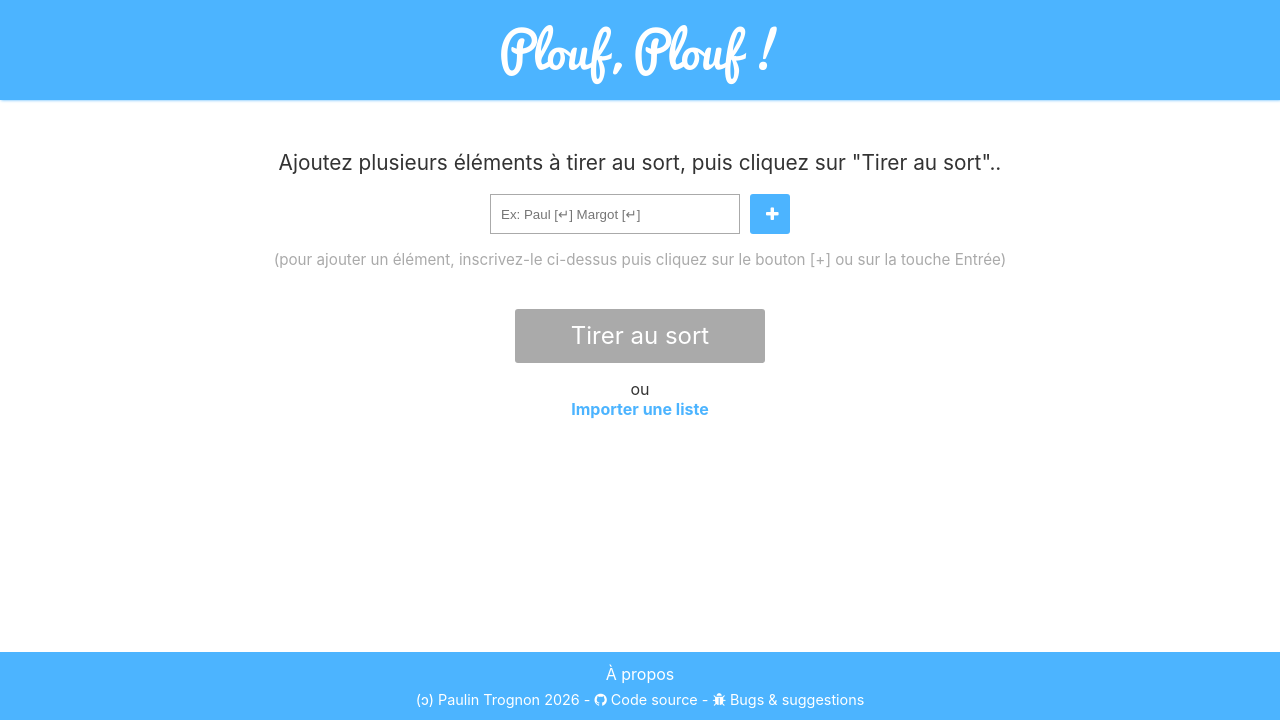
Test: Create draw › should add values to the draw
Type "Paulingo" into the field with test id "AddValueForm_textInput" at (615,214), box [490,194,740,234]
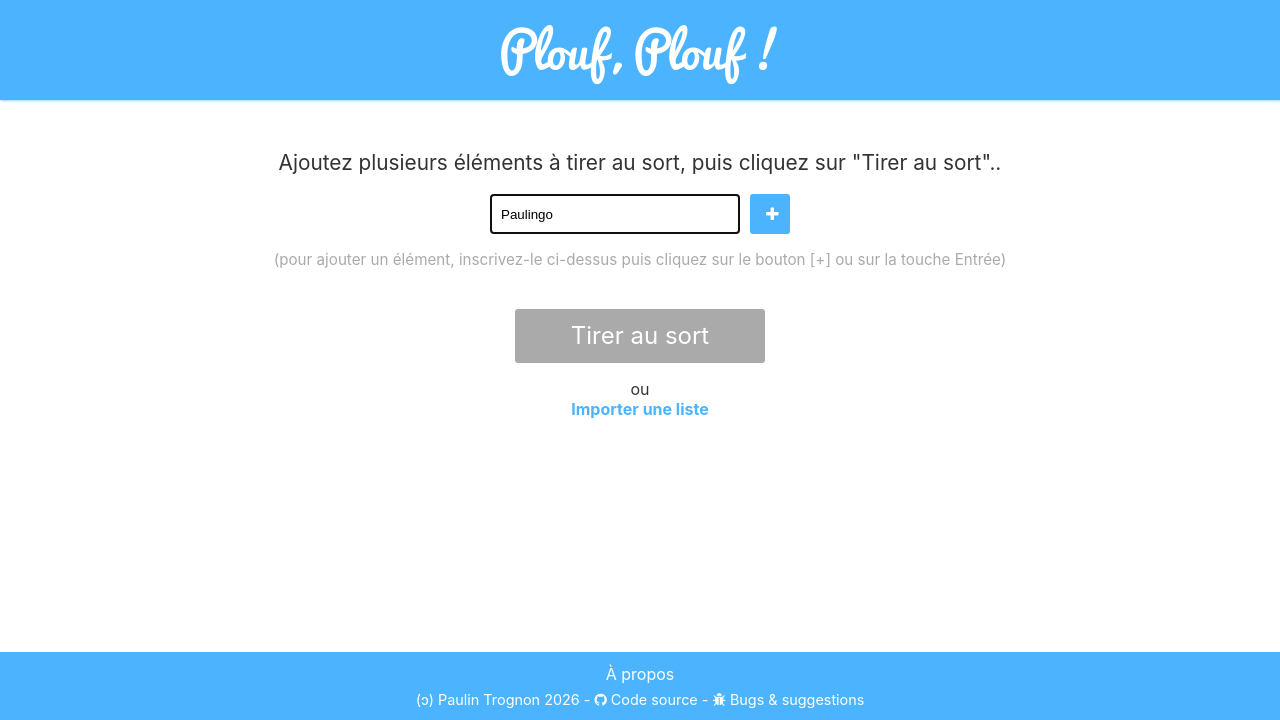
Click the button with test id "AddValueForm_addInput" at (770,214), box [750,194,790,234]
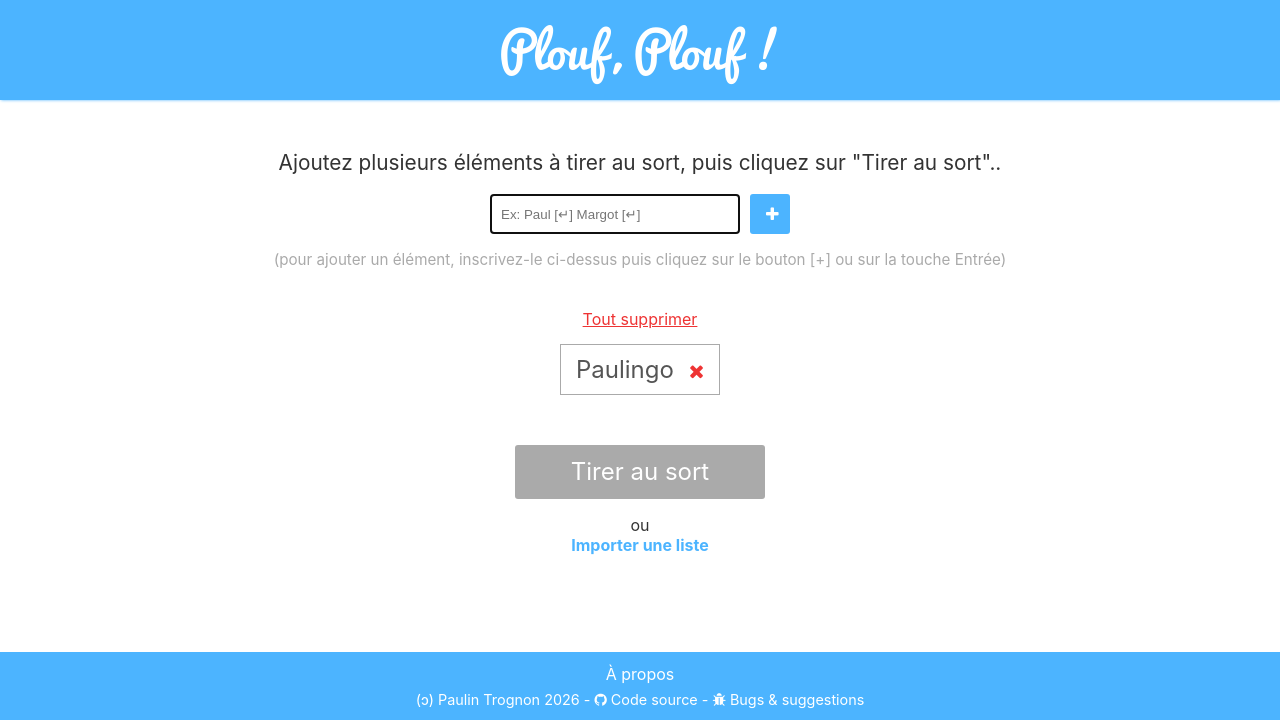
Now the number of elements with test id "Value" is 1, box [560,344,720,395]
Now the text with test id "Value" reads "Paulingo", box [576,355,674,384]
Type "Margotogo" into the field with test id "AddValueForm_textInput" at (615,214), box [490,194,740,234]
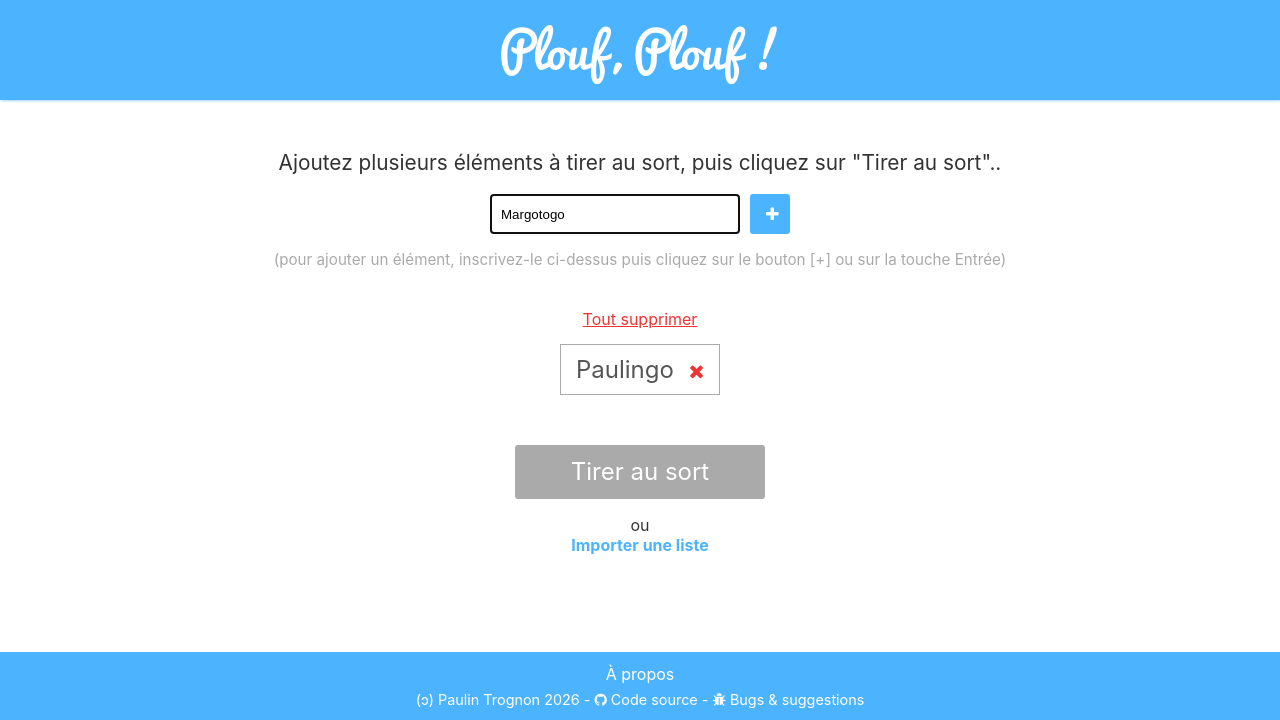
Click the button with test id "AddValueForm_addInput" at (770,214), box [750,194,790,234]
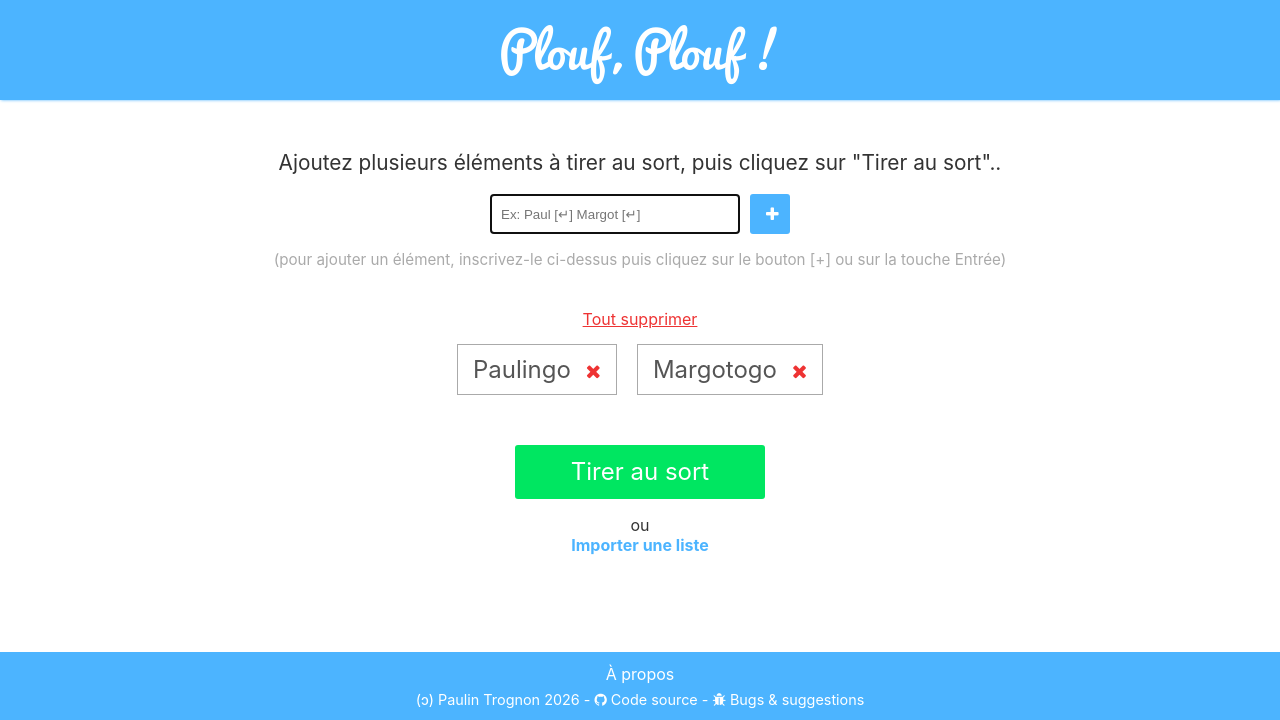
Now the number of elements with test id "Value" is 2, box [457,344,617,395]; [637,344,823,395]
Now the text with test id "Value" reads "Margotogo", box [653,355,777,384]
Type "🇫🇷 :!,çéâ°uÈ^'\"-*/" into the field with test id "AddValueForm_textInput" at (615,214), box [490,194,740,234]
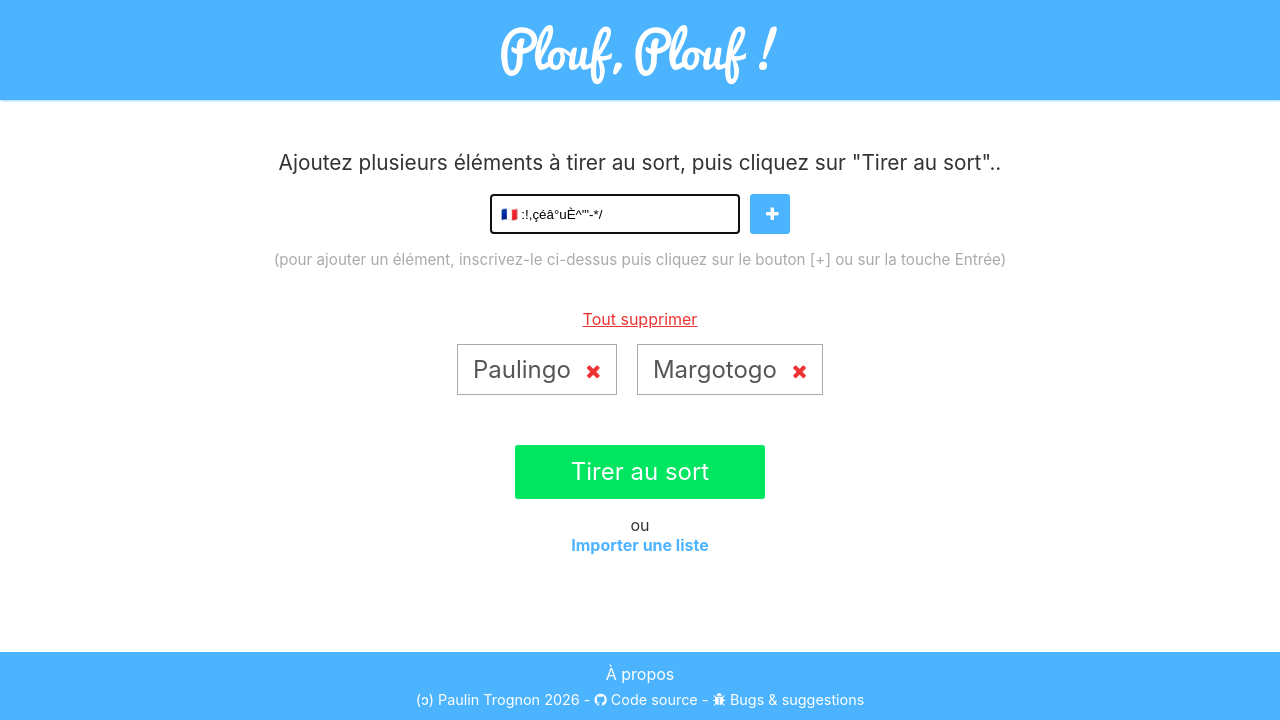
Click the button with test id "AddValueForm_addInput" at (770,214), box [750,194,790,234]
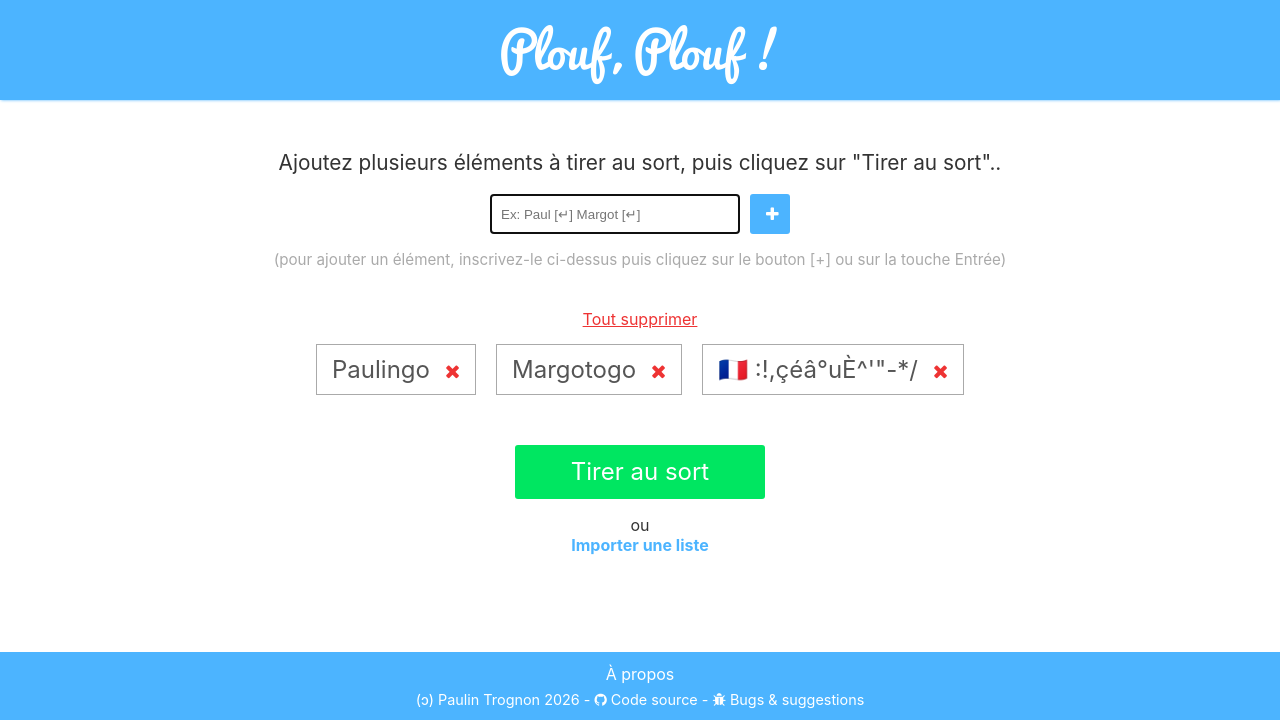
Now the number of elements with test id "Value" is 3, box [316,344,476,395]; [496,344,682,395]; [702,344,964,395]
Now the text with test id "Value" reads "🇫🇷 :!,çéâ°uÈ^'\"-*/", box [718,355,918,384]
